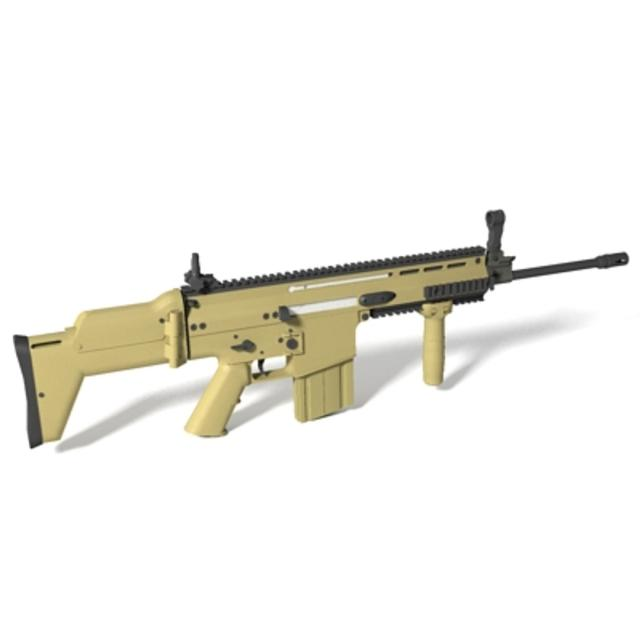Gun: (0, 221, 640, 444)
